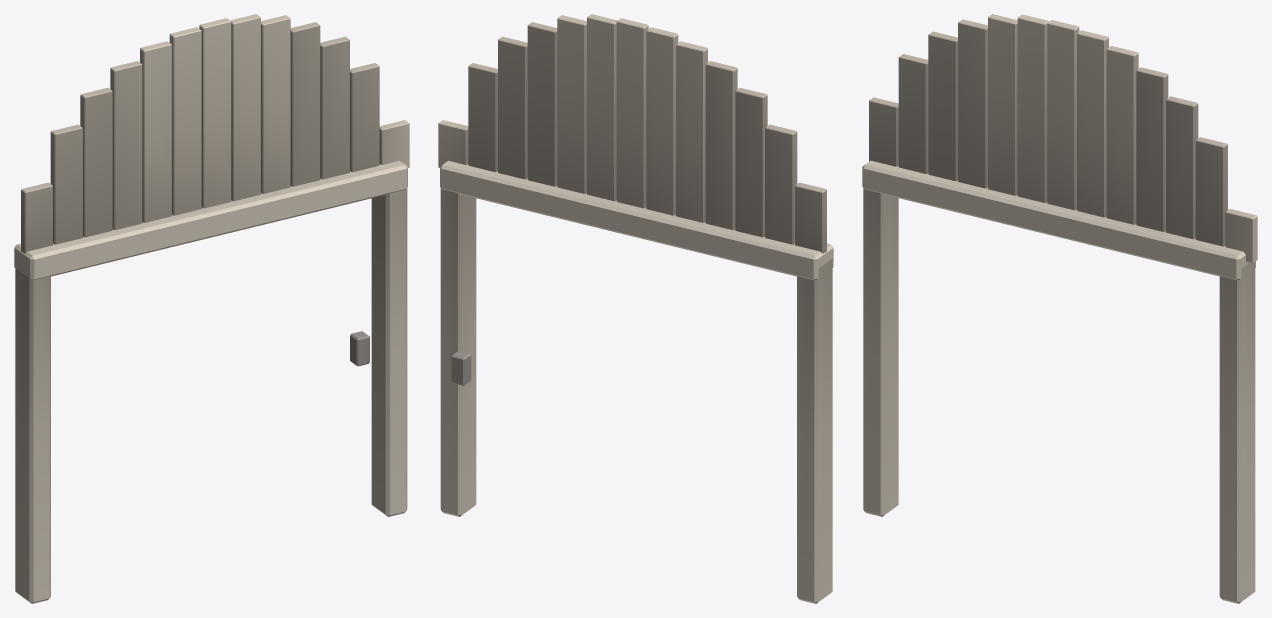
File: dng_shortcut.glb
3 views of the same model, side by side, from view 1: azimuth 30°, elevation 25°; view 2: azimuth 150°, elevation 25°; view 3: azimuth 330°, elevation 25° (orthographic).
Parts seen in each view (by area): view 1: bolt_keeper; view 2: bolt_keeper; view 3: bolt_keeper.
Part boxes in pixels (x1,y1,x2,y2): bolt_keeper: (14, 14, 409, 603); bolt_keeper: (438, 14, 833, 603); bolt_keeper: (862, 14, 1257, 603).
Bounding box in the file's own units: 2.85 × 3.75 × 0.34.
